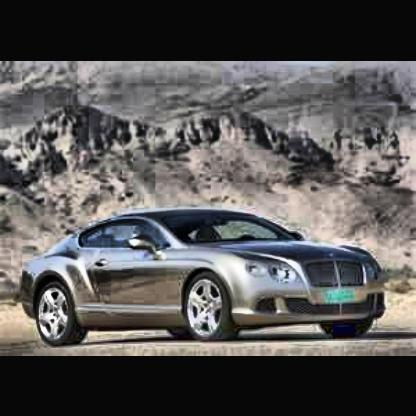Bentley Continental GT Coupe 2012: (17, 206, 391, 350)
